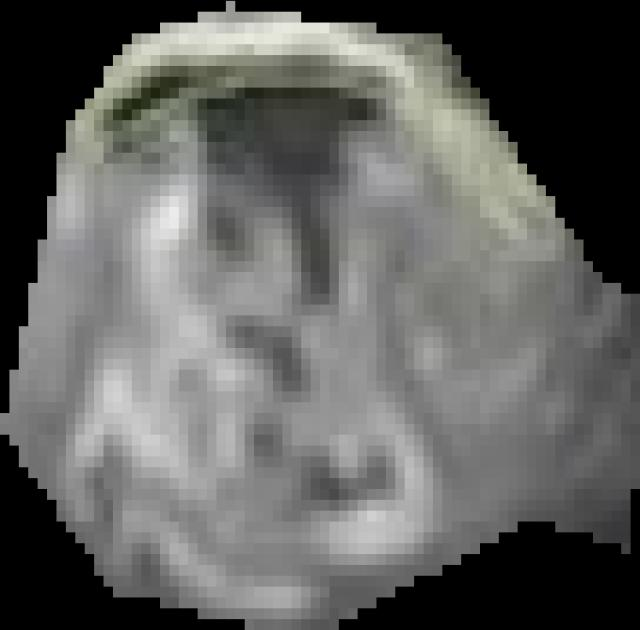tumor_moderate_chance: (0, 1, 640, 630)
